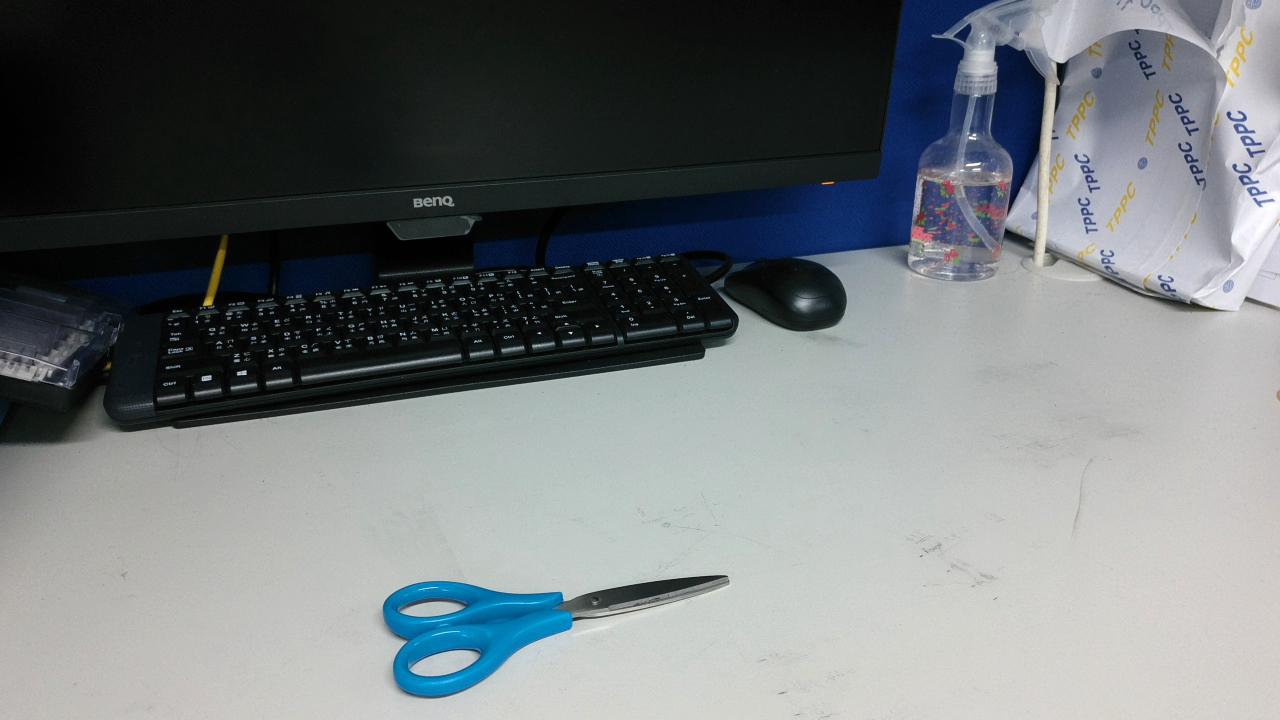long: (1008, 399, 1108, 523)
